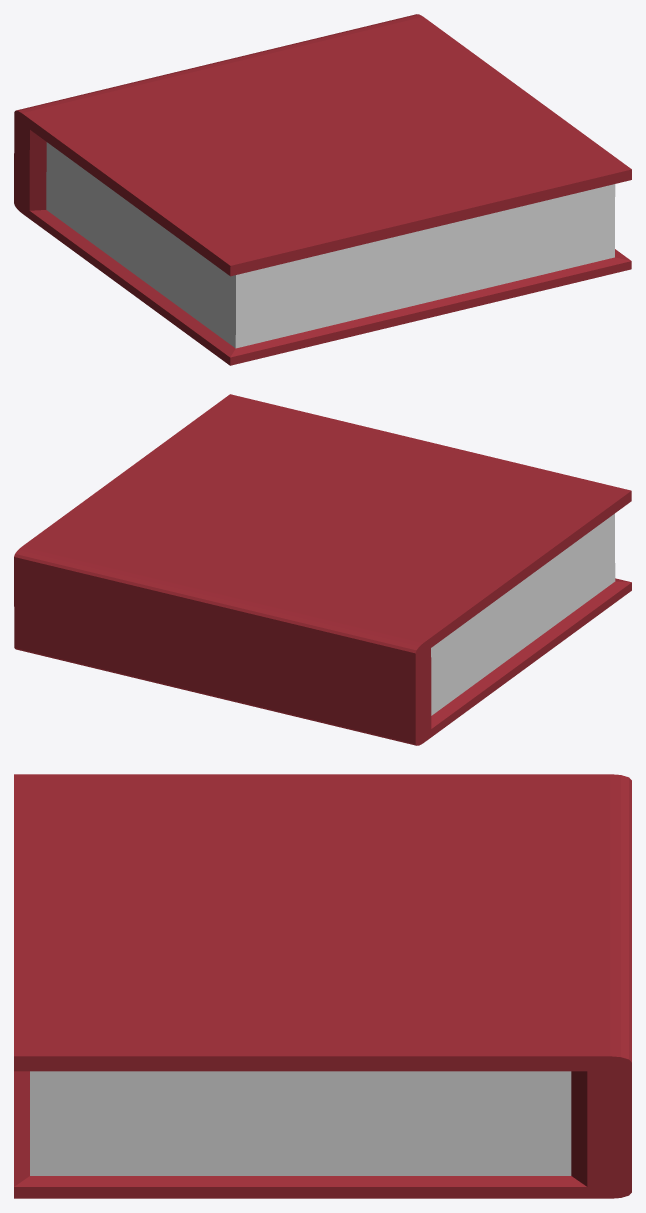
File: Prop_Biblioteca_Libro4.fbx
3 views of the same model, one above another, from view 1: azimuth 30°, elevation 25°; view 2: azimuth 150°, elevation 25°; view 3: azimuth 270°, elevation 25° (orthographic). The views are drawn at different scales.
Visible parts, largest first — view 1: Cube.018; view 2: Cube.018; view 3: Cube.018.
Boxes of the visible parts, box(x1,y1,x2,y2) form: Cube.018: box(14, 14, 631, 365); Cube.018: box(14, 394, 631, 745); Cube.018: box(14, 774, 631, 1198).
Size of the model in its own units: 439 by 106 by 409.
